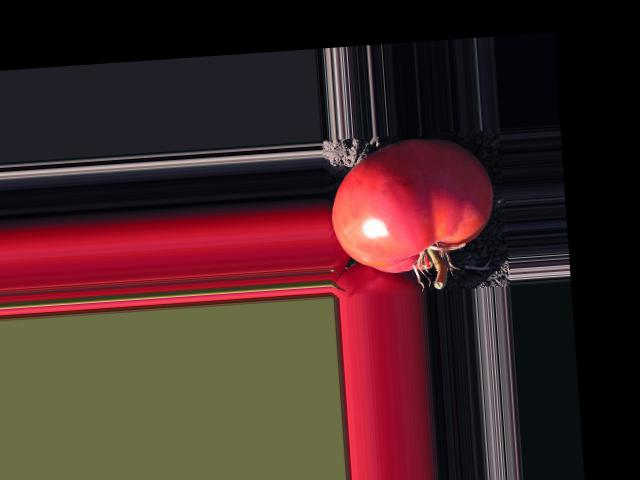tomato: (327, 133, 498, 275)
